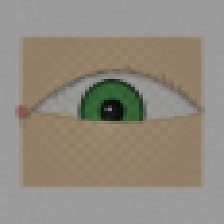pinguecula_lesion: (35, 95, 85, 135)
